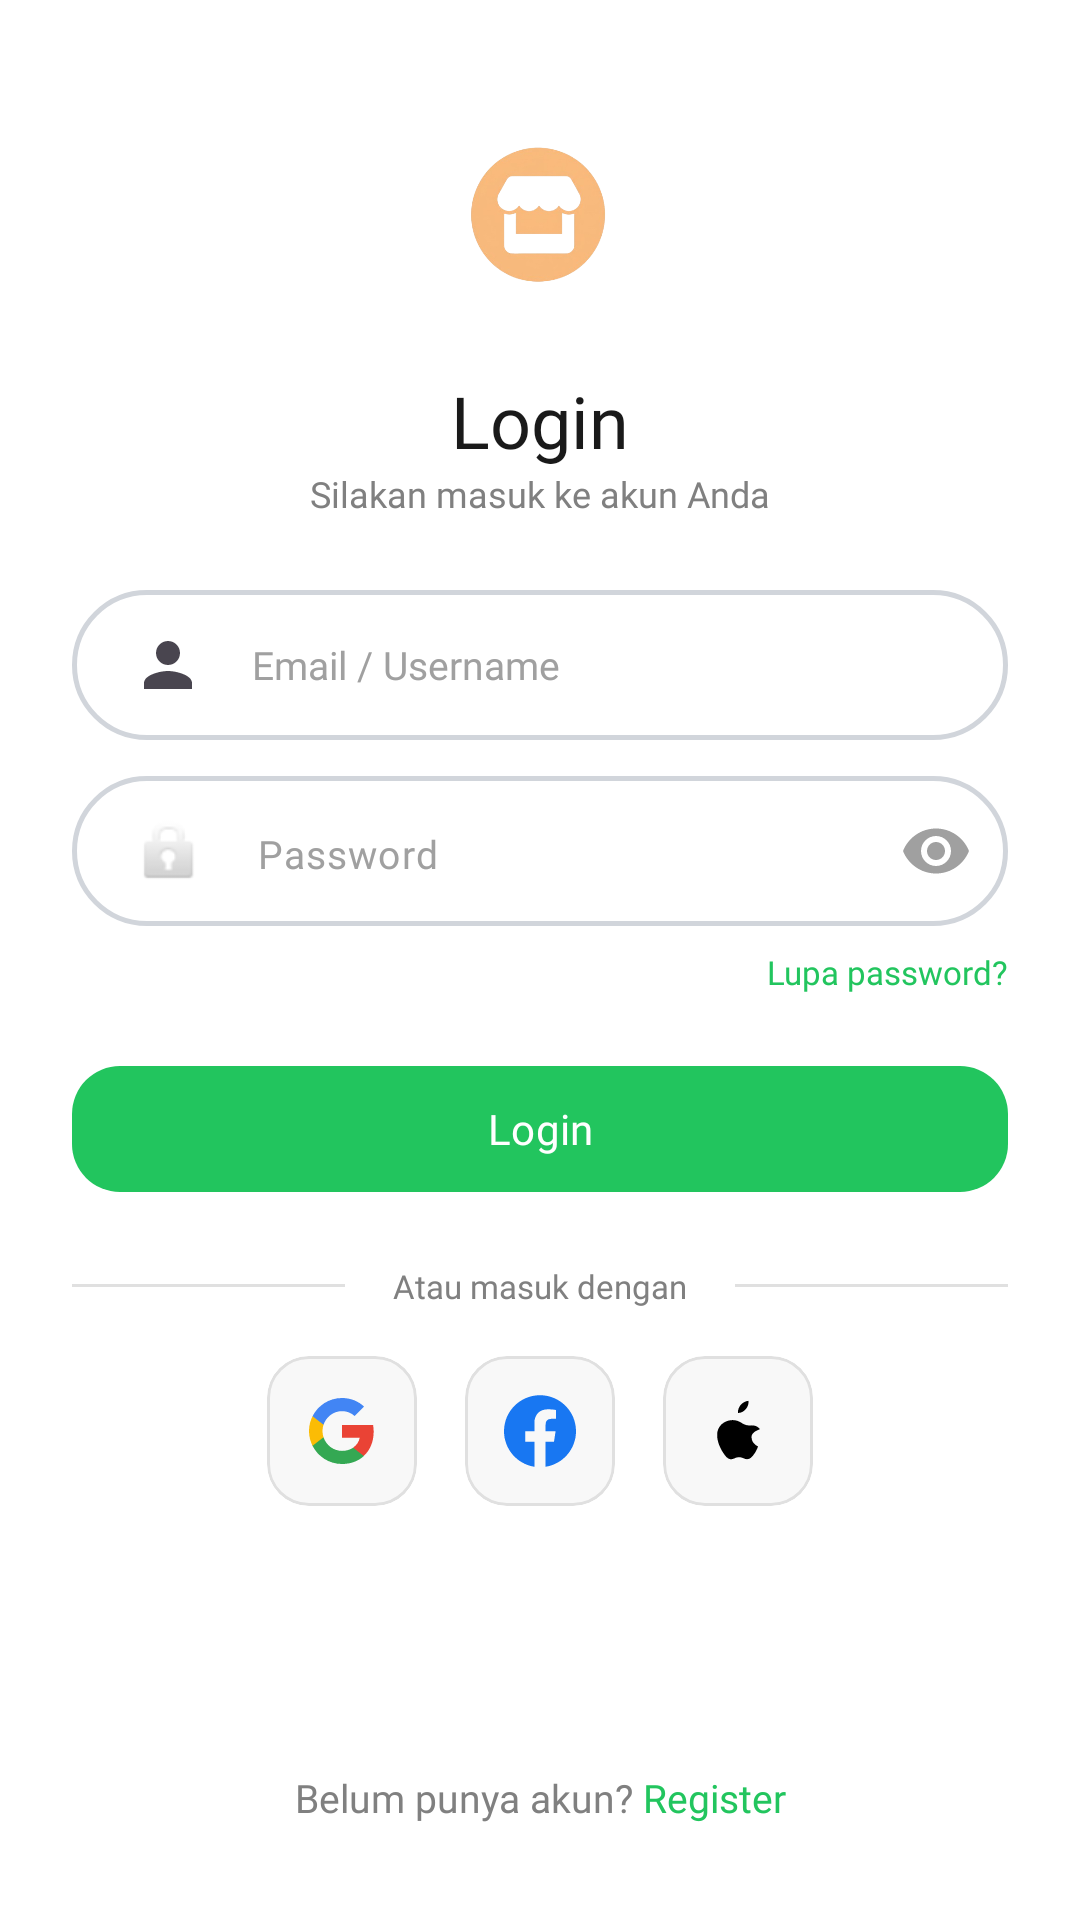

Named icons in this screenshot (1080px x 1920px) and their centers, [x,y]:
umkm: [538,214]
